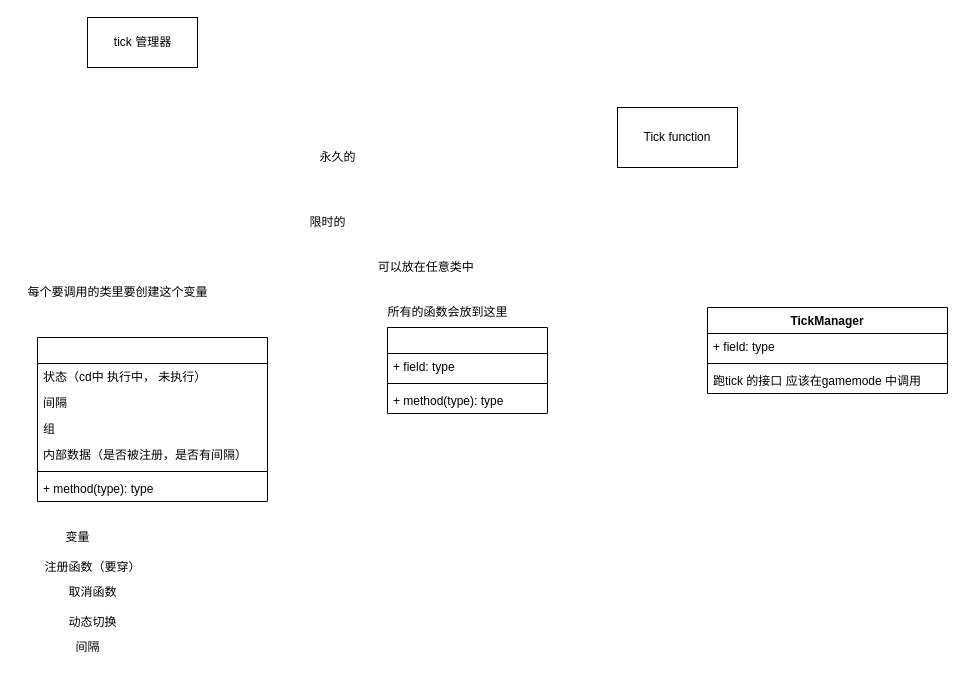
The diagram is 965 pixels wide and 680 high, and some of its shapes have lost their labels. Each missing label, with the box of its shape:
FTickFunction: (36, 336, 268, 502)
FTickTaskLevel: (386, 326, 548, 414)
